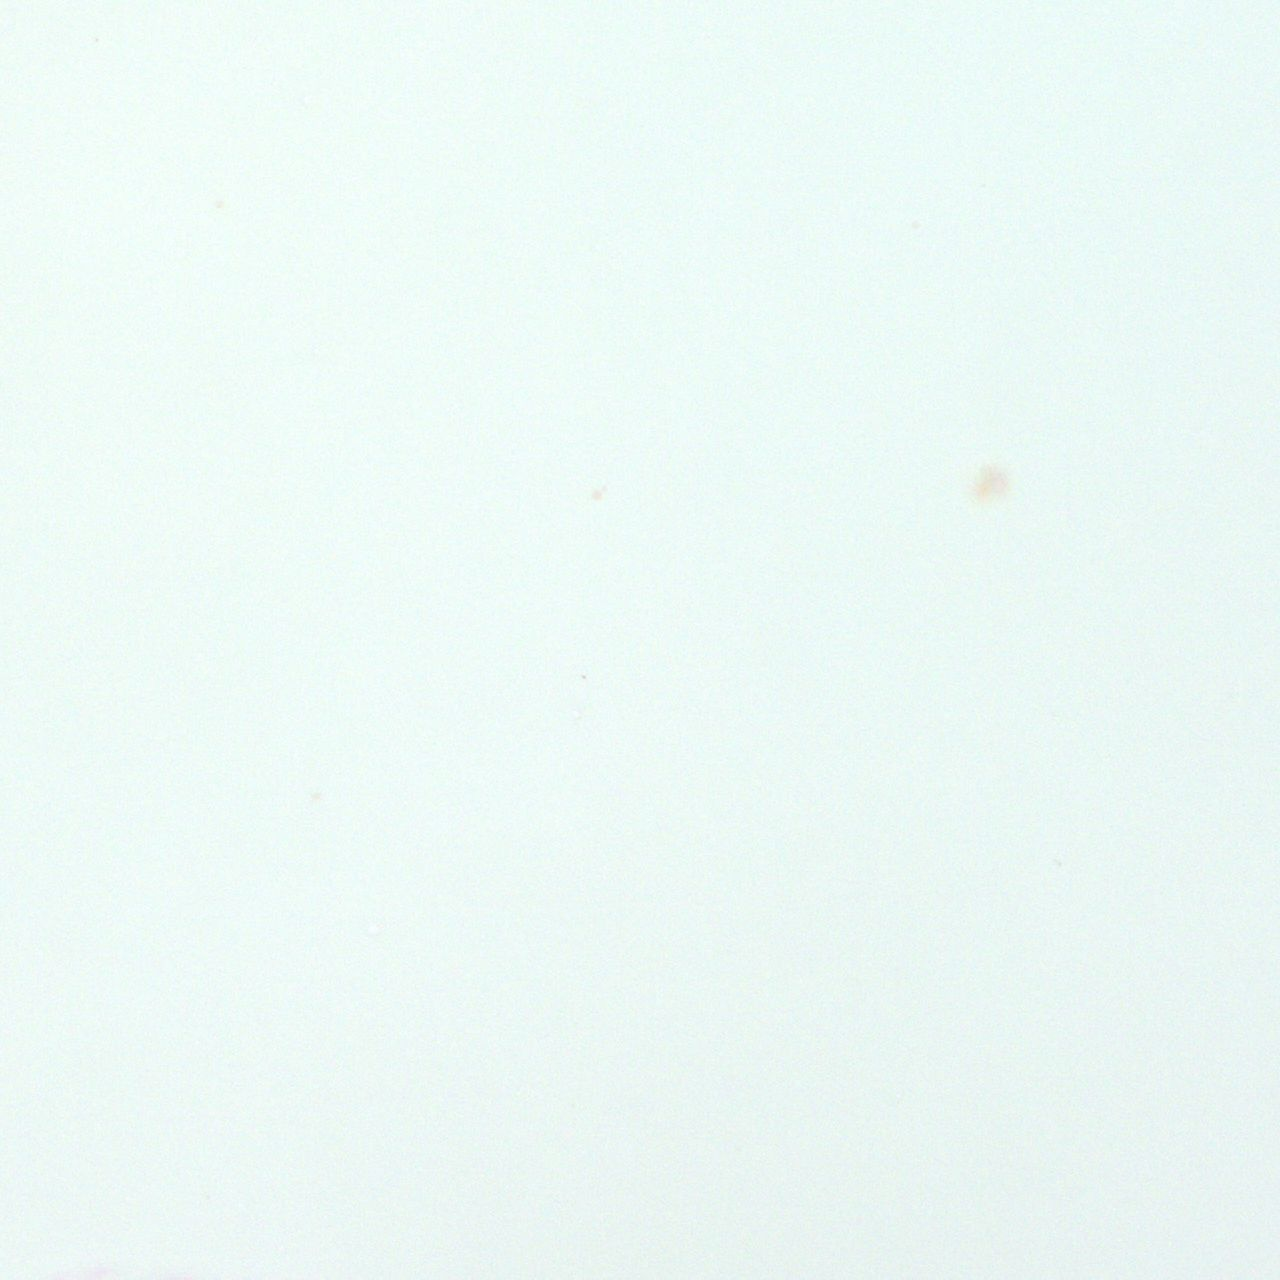dust: (971, 464, 1012, 497)
